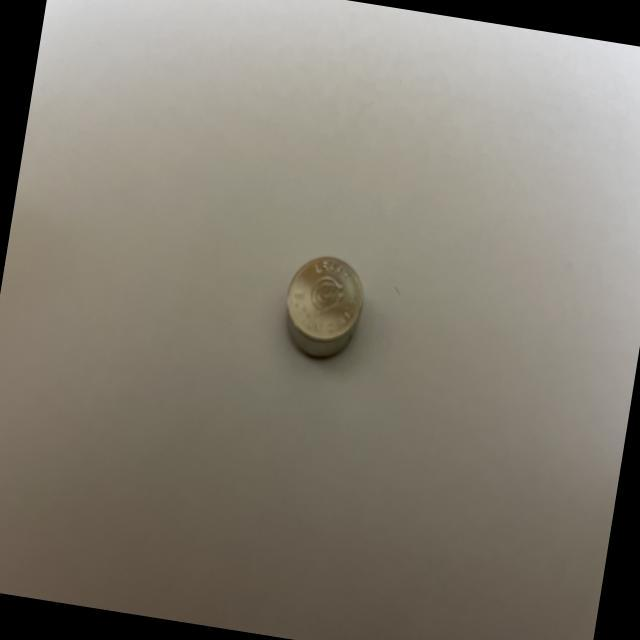COIN: (278, 250, 369, 364)
